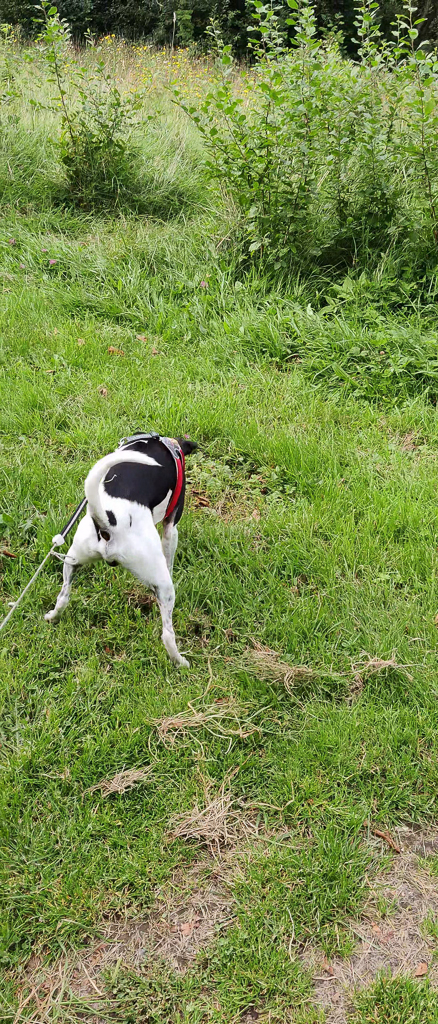Dog: (29, 426, 225, 680)
